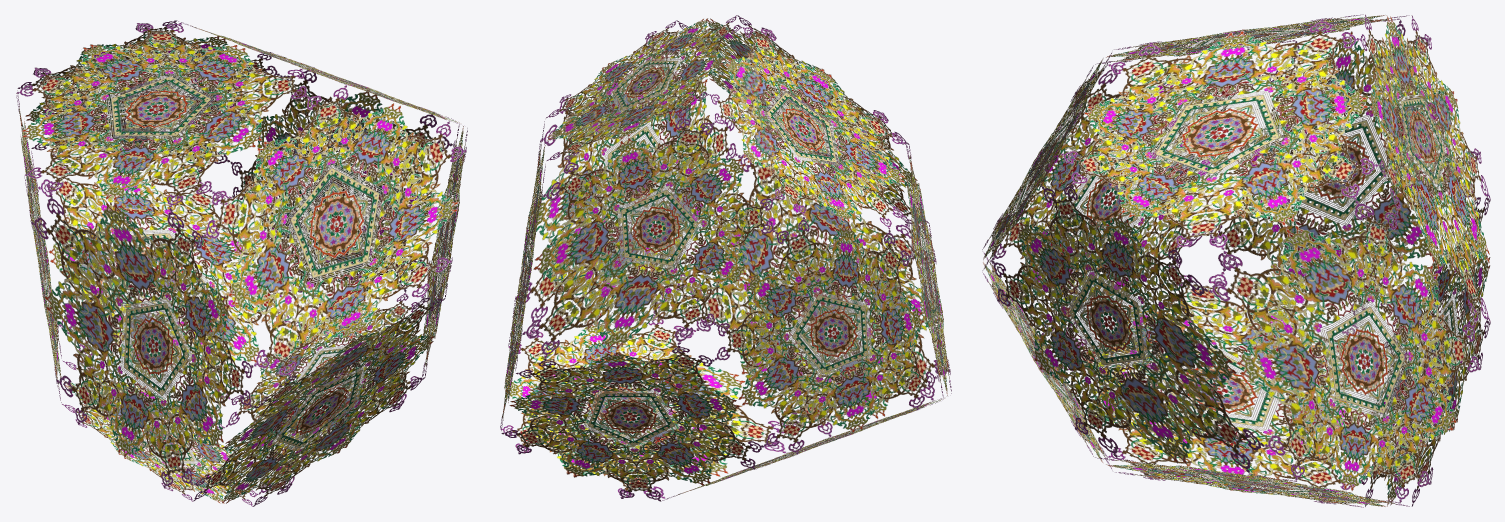
The model's file is Tetartoid3.obj.
The picture shows the model from 3 angles, left to right: view 1: azimuth 30°, elevation 25°; view 2: azimuth 150°, elevation 25°; view 3: azimuth 270°, elevation 25°; orthographic projection. The views are drawn at different scales.
Bounding box in the file's own units: 22 × 22 × 22.
1 material, 1 textured.
